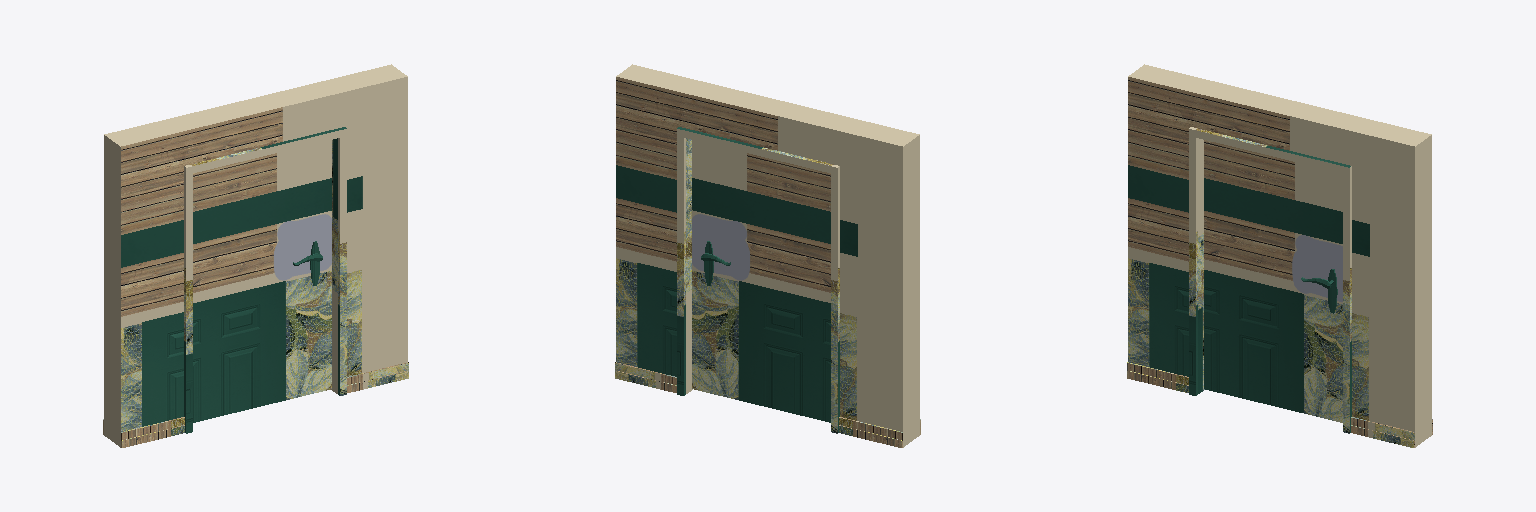
3 views of the same model, side by side, from view 1: azimuth 30°, elevation 25°; view 2: azimuth 150°, elevation 25°; view 3: azimuth 330°, elevation 25° (orthographic).
Visible parts, largest first — view 1: Box001; view 2: Box001; view 3: Box001.
Part boxes in pixels (x1,y1,x2,y2): Box001: (103, 64, 408, 447); Box001: (615, 64, 920, 447); Box001: (1127, 64, 1432, 447).
Size of the model in its own units: 39.37 by 39.37 by 5.12.
1 materials, 1 textured.